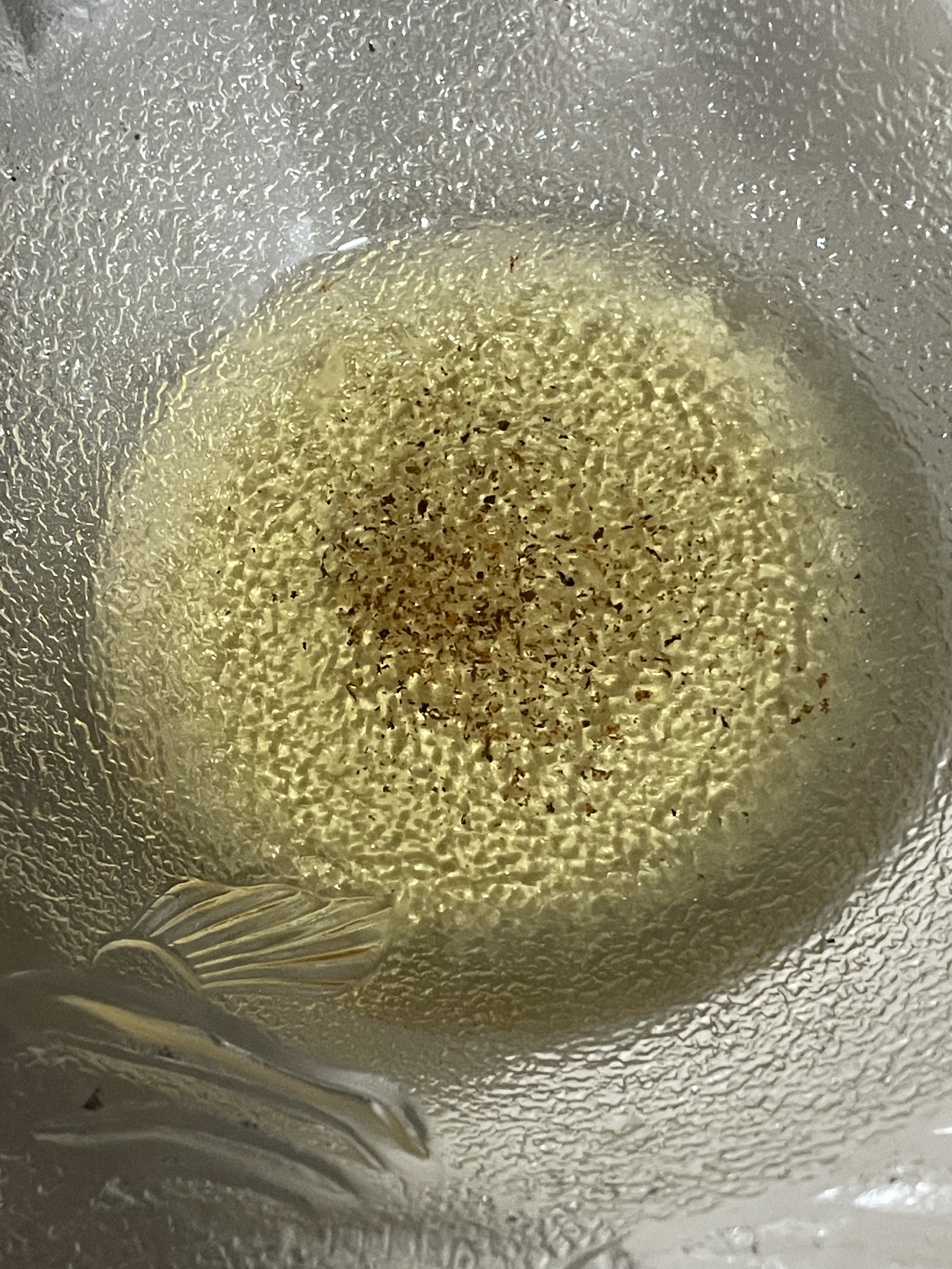reusable: (88, 223, 952, 1039)
